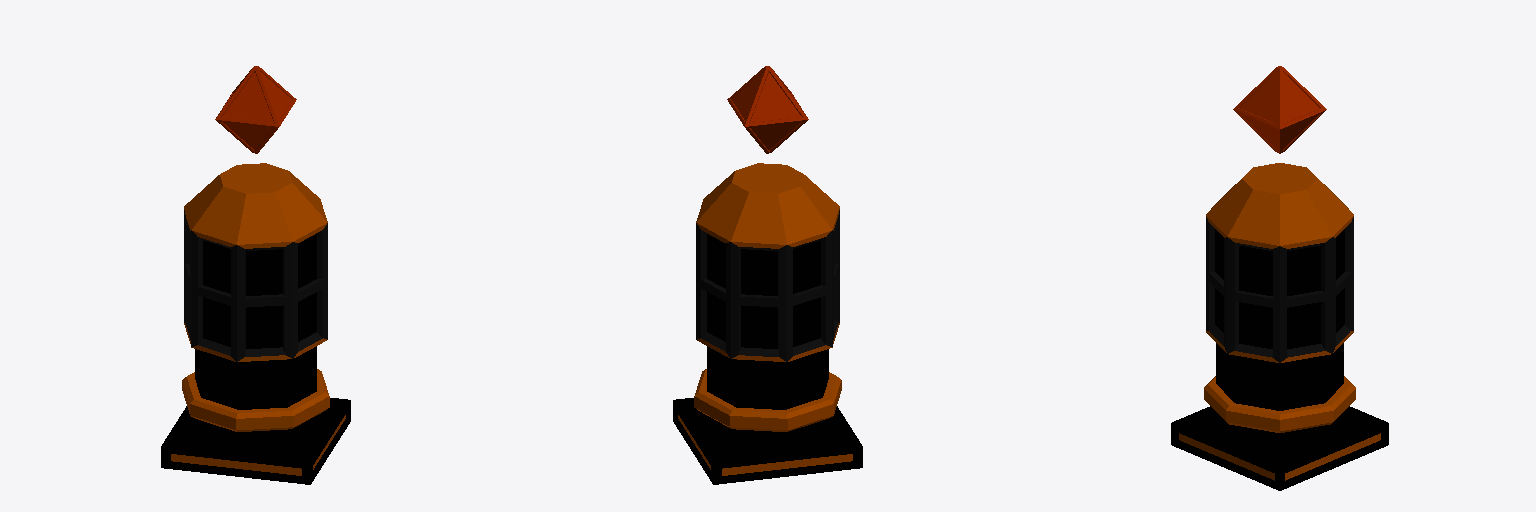
File: HiveTurret.obj
The picture shows the model from 3 angles: view 1: azimuth 30°, elevation 25°; view 2: azimuth 150°, elevation 25°; view 3: azimuth 270°, elevation 25°; orthographic projection.
Parts seen in each view (by area): view 1: GunHiveTurret1, MiddleHiveTurret1, BaseHiveTurret1, StorageHiveTurret1; view 2: GunHiveTurret1, MiddleHiveTurret1, BaseHiveTurret1, StorageHiveTurret1; view 3: GunHiveTurret1, MiddleHiveTurret1, BaseHiveTurret1, StorageHiveTurret1.
Part boxes in pixels (x1,y1,x2,y2): GunHiveTurret1: (184, 163, 327, 361); MiddleHiveTurret1: (182, 346, 329, 448); BaseHiveTurret1: (161, 398, 350, 484); StorageHiveTurret1: (215, 66, 296, 153); GunHiveTurret1: (696, 163, 839, 361); MiddleHiveTurret1: (694, 346, 841, 448); BaseHiveTurret1: (673, 398, 862, 484); StorageHiveTurret1: (727, 66, 808, 153); GunHiveTurret1: (1206, 163, 1353, 362); MiddleHiveTurret1: (1204, 343, 1355, 449); BaseHiveTurret1: (1171, 406, 1388, 490); StorageHiveTurret1: (1233, 66, 1326, 153).
Bounding box in the file's own units: 2.26 × 4.32 × 2.26.